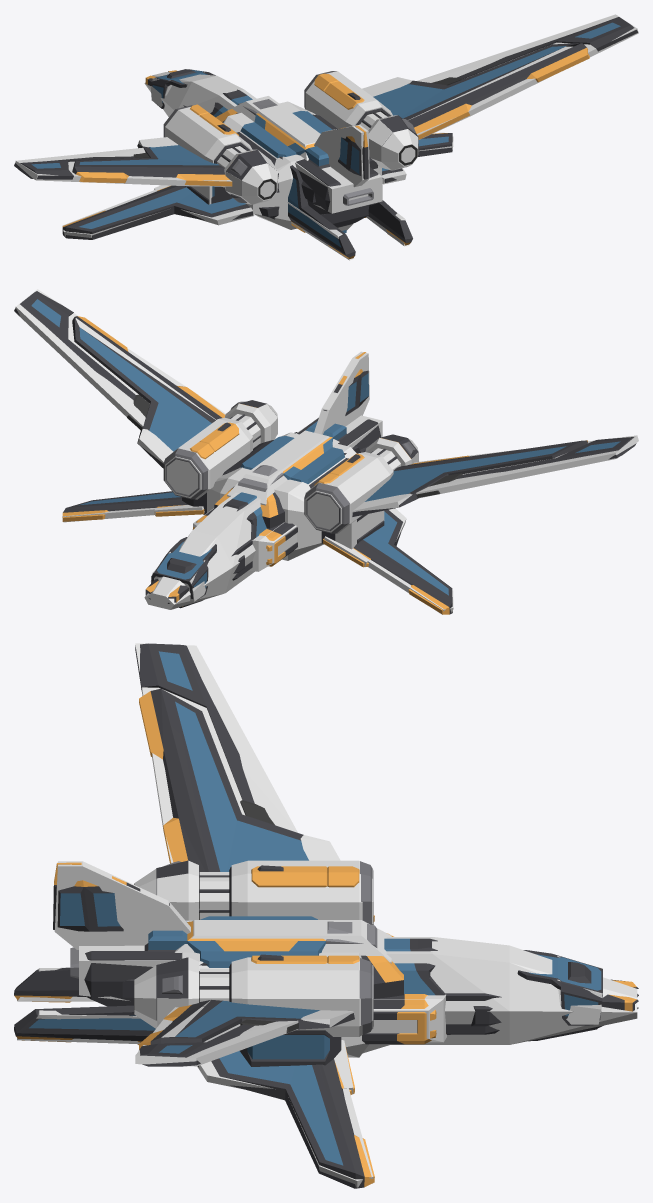
File: SM_Ship_Fighter_03.fbx
3 views of the same model, one above another, from view 1: azimuth 30°, elevation 25°; view 2: azimuth 150°, elevation 25°; view 3: azimuth 270°, elevation 25° (orthographic). The views are drawn at different scales.
Parts seen in each view (by area): view 1: SM_Ship_Fighter_03_LOD0, SM_Ship_Fighter_03_ConvexHulls; view 2: SM_Ship_Fighter_03_LOD0, SM_Ship_Fighter_03_ConvexHulls; view 3: SM_Ship_Fighter_03_LOD0, SM_Ship_Fighter_03_ConvexHulls.
Boxes of the visible parts, box(x1,y1,x2,y2) form: SM_Ship_Fighter_03_LOD0: box(14, 17, 637, 259); SM_Ship_Fighter_03_ConvexHulls: box(14, 14, 638, 260); SM_Ship_Fighter_03_LOD0: box(14, 291, 636, 614); SM_Ship_Fighter_03_ConvexHulls: box(14, 289, 638, 614); SM_Ship_Fighter_03_LOD0: box(14, 643, 638, 1188); SM_Ship_Fighter_03_ConvexHulls: box(17, 643, 637, 1187).
Bounding box in the file's own units: 1255 × 1974 × 459.
1 material, 1 textured.
